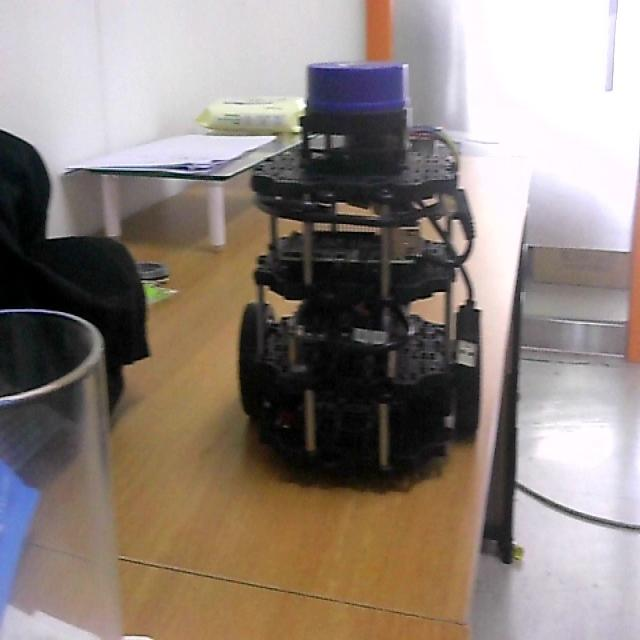turtle: (237, 62, 482, 494)
